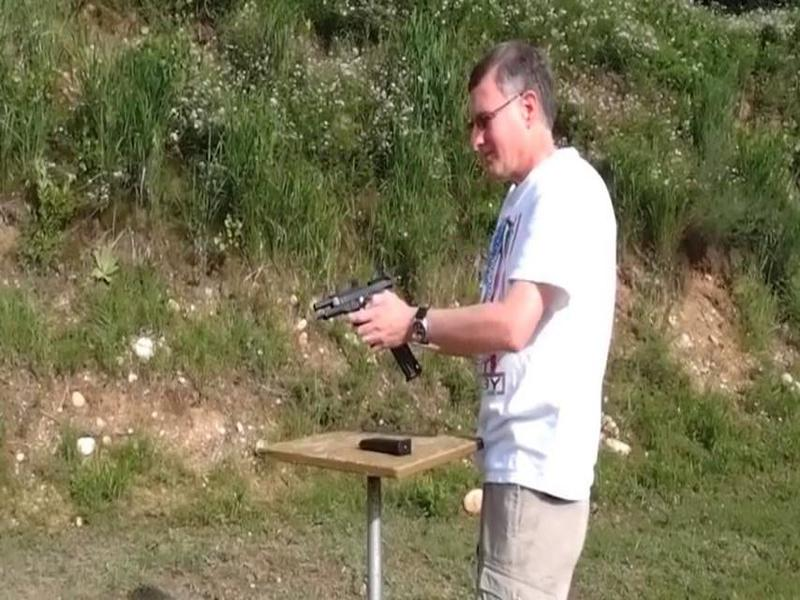Pistola: (312, 268, 415, 360)
